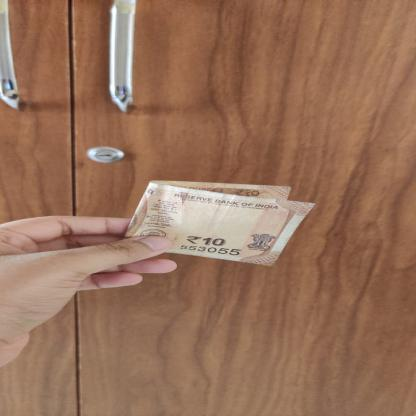New10Front: (124, 180, 318, 268)
